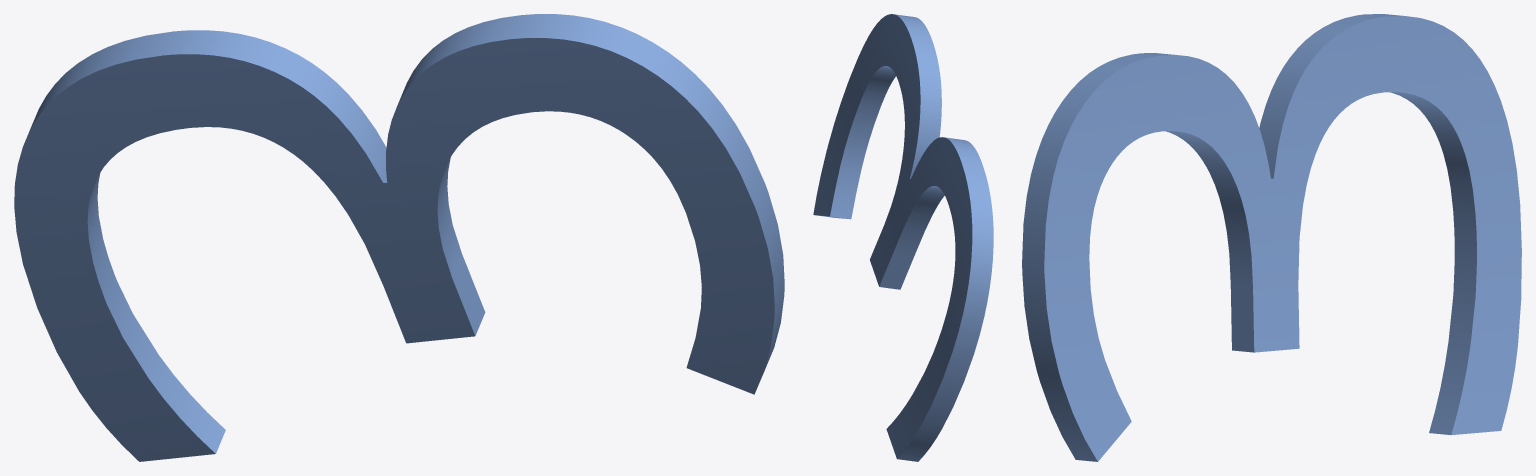
Rendered from Number_3.gltf.
3 renders of one model, left to right at view 1: azimuth 30°, elevation 25°; view 2: azimuth 150°, elevation 25°; view 3: azimuth 270°, elevation 25°, orthographic. The views are drawn at different scales.
Parts seen in each view (by area): view 1: Sub_5_Cell_2_3_Number_3; view 2: Sub_5_Cell_2_3_Number_3; view 3: Sub_5_Cell_2_3_Number_3.
Boxes of the visible parts, x1,y1,x2,y2 form: Sub_5_Cell_2_3_Number_3: (14, 14, 784, 461); Sub_5_Cell_2_3_Number_3: (813, 14, 993, 461); Sub_5_Cell_2_3_Number_3: (1022, 14, 1521, 461).
Bounding box in the file's own units: 0.02 × 0.0197 × 0.0194.
